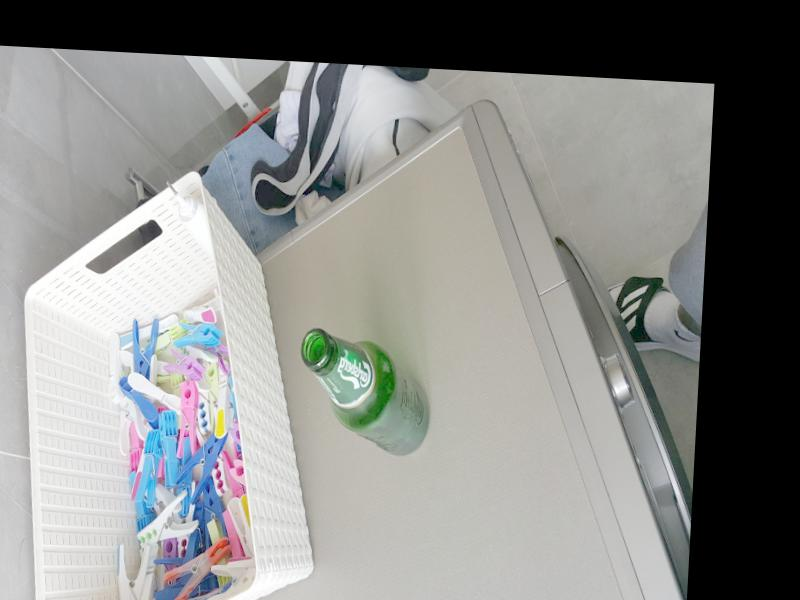Beer: (298, 326, 436, 454)
